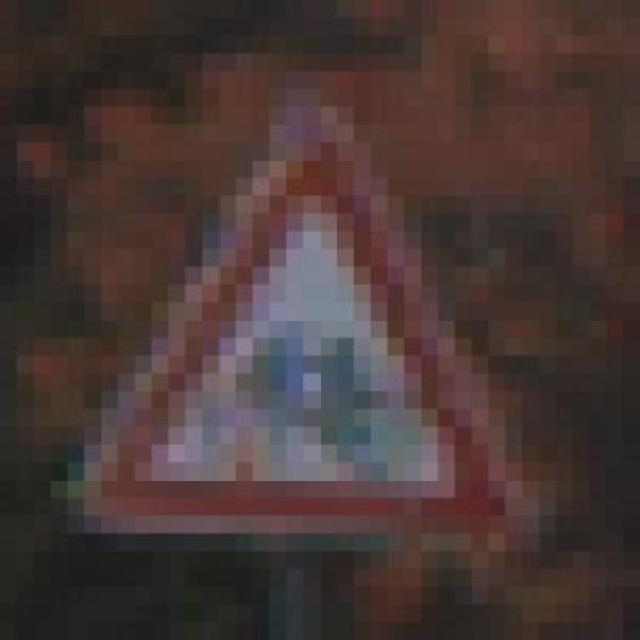CYCLE ROUTE AHEAD WARNING: (67, 89, 539, 569)
